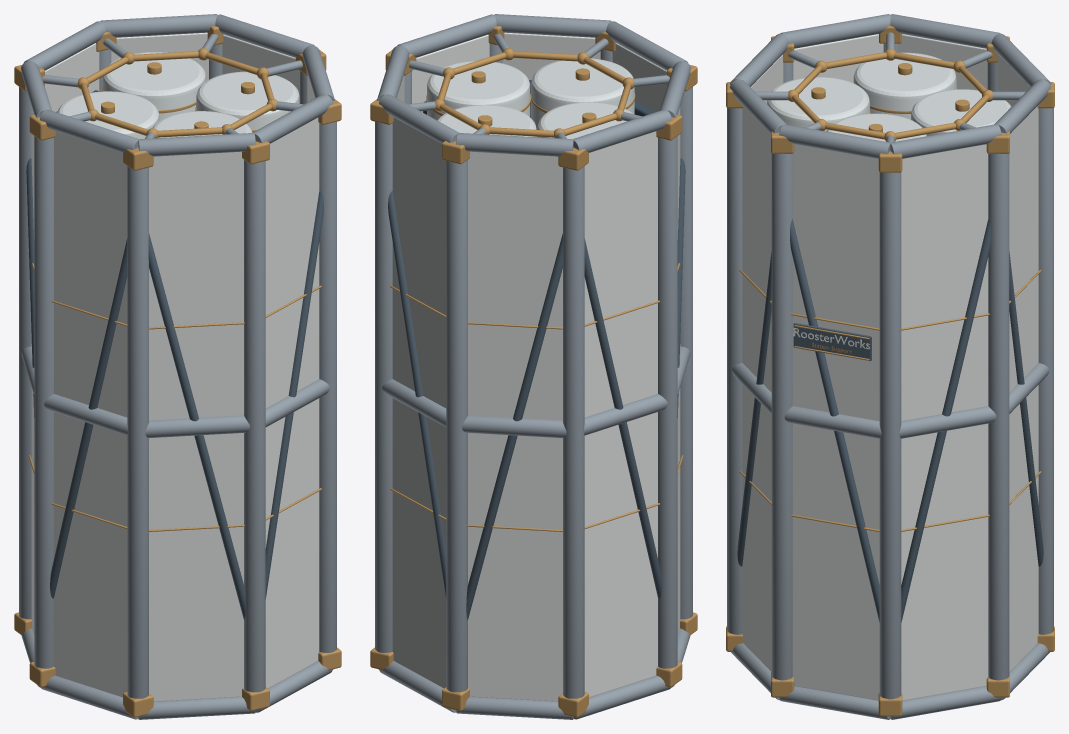
File: Approved_OctoXL_INTERMEDIATE.fbx
3 renders of one model, left to right at view 1: azimuth 30°, elevation 25°; view 2: azimuth 150°, elevation 25°; view 3: azimuth 270°, elevation 25°, orthographic.
Visible parts, largest first — view 1: ArmorPanel_03.016, ArmorPanel_04.016, ArmorPanel_02.016, Rail_03, Rail_02, Rail_04, Rail_01, Rail_05, Monopropellant_04_Pressure_Body, CrossBrace_02, Monopropellant_01_Pressure_Body, CrossBrace_03 (+24 smaller); view 2: ArmorPanel_06.016, ArmorPanel_05.016, ArmorPanel_07.014, Rail_05, Rail_06, Rail_04, Rail_07, Rail_03, Monopropellant_02_Pressure_Body, Monopropellant_01_Pressure_Body, CrossBrace_05, CrossBrace_04 (+24 smaller); view 3: ArmorPanel_08.014, ArmorPanel_01.016, ArmorPanel_02.016, ArmorPanel_07.014, Rail_00, Rail_01, Rail_07, Rail_02, Rail_06, Monopropellant_03_Pressure_Body, CrossBrace_07, CrossBrace_00 (+26 smaller).
Part boxes in pixels (x1,y1,x2,y2): ArmorPanel_03.016: (149, 151, 243, 701); ArmorPanel_04.016: (54, 131, 127, 697); ArmorPanel_02.016: (265, 117, 319, 688); Rail_03: (127, 166, 148, 698); Rail_02: (244, 160, 265, 692); Rail_04: (34, 136, 53, 668); Rail_01: (319, 121, 336, 652); Rail_05: (19, 87, 31, 619); Monopropellant_04_Pressure_Body: (102, 52, 206, 120); CrossBrace_02: (148, 233, 245, 619); Monopropellant_01_Pressure_Body: (196, 71, 299, 130); CrossBrace_03: (50, 238, 127, 598); ArmorPanel_06.016: (468, 151, 562, 701); ArmorPanel_05.016: (584, 131, 657, 697); ArmorPanel_07.014: (392, 117, 446, 688); Rail_05: (563, 166, 584, 698); Rail_06: (446, 160, 467, 692); Rail_04: (658, 136, 677, 668); Rail_07: (375, 121, 392, 652); Rail_03: (680, 87, 692, 619); Monopropellant_02_Pressure_Body: (531, 58, 634, 129); Monopropellant_01_Pressure_Body: (427, 61, 530, 119); CrossBrace_05: (466, 233, 563, 619); CrossBrace_04: (584, 238, 661, 598); ArmorPanel_08.014: (901, 144, 988, 700); ArmorPanel_01.016: (792, 144, 879, 700); ArmorPanel_02.016: (742, 106, 771, 671); ArmorPanel_07.014: (1009, 106, 1038, 671); Rail_00: (879, 172, 901, 699); Rail_01: (771, 153, 792, 680); Rail_07: (988, 153, 1009, 680); Rail_02: (727, 108, 742, 634); Rail_06: (1038, 108, 1053, 634); Monopropellant_03_Pressure_Body: (853, 52, 956, 119); CrossBrace_07: (901, 219, 990, 622); CrossBrace_00: (790, 219, 879, 622).
Size of the model in its own units: 253 by 489 by 253.
